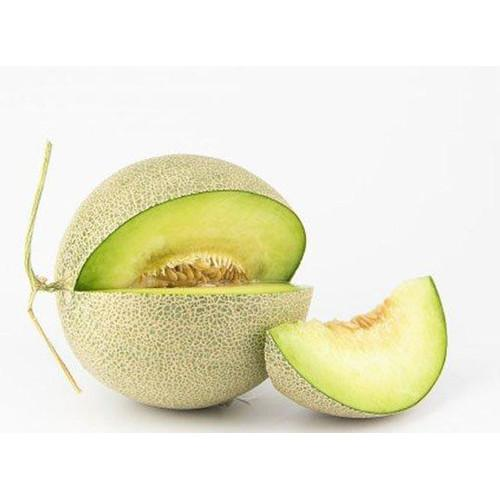Melon Unripe: (56, 155, 310, 407), (266, 276, 446, 416)
